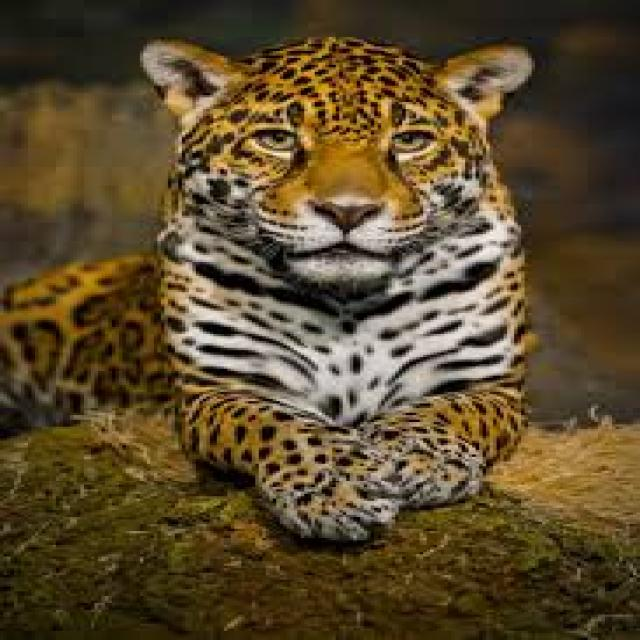Jaguar: (0, 34, 539, 550)
